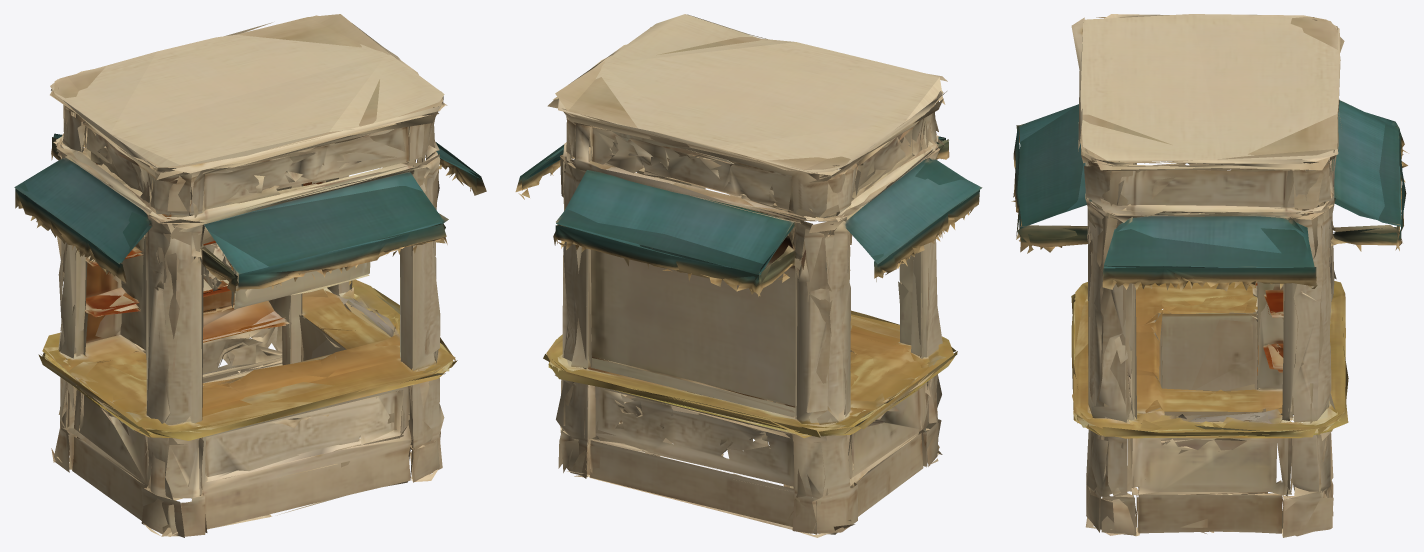
The model's file is unified--detail--prizes.glb.
3 views of the same model, side by side, from view 1: azimuth 30°, elevation 25°; view 2: azimuth 150°, elevation 25°; view 3: azimuth 270°, elevation 25° (orthographic). The views are drawn at different scales.
Parts seen in each view (by area): view 1: prizes-1; view 2: prizes-1; view 3: prizes-1.
Boxes of the visible parts, x1=… form: prizes-1: x1=14, y1=14, x2=486, y2=537; prizes-1: x1=515, y1=14, x2=982, y2=537; prizes-1: x1=1011, y1=14, x2=1408, y2=537.
Size of the model in its own units: 2.74 by 2.65 by 2.49.
Materials: 1 (1 with a texture image).
